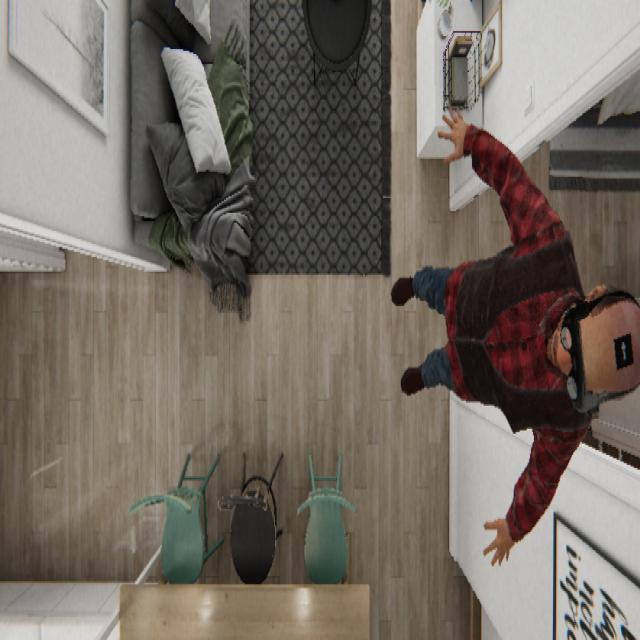Human: (391, 103, 638, 566)
UnityLogo: (612, 327, 634, 370)
